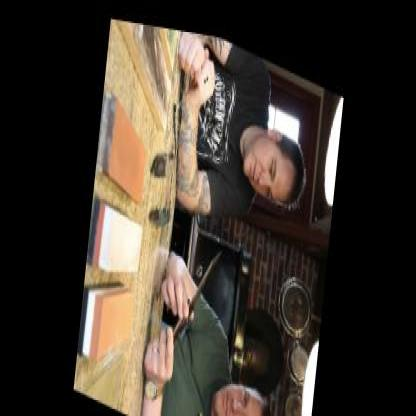knife: (174, 216, 225, 342)
